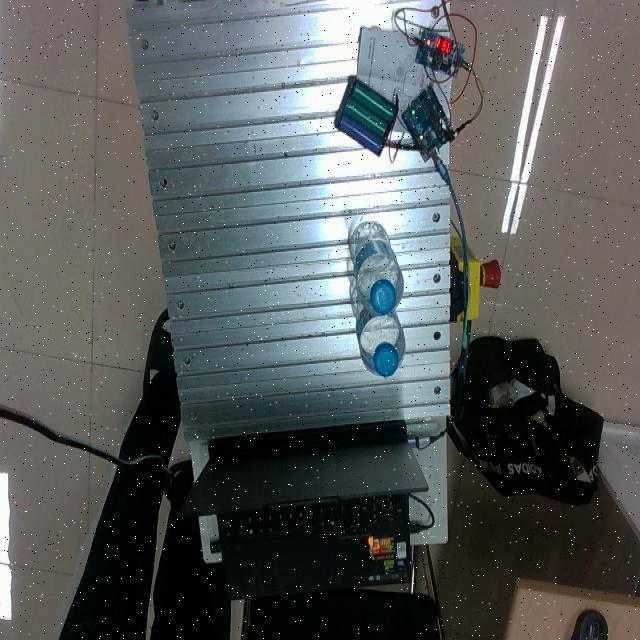lavie: (350, 277, 405, 379), (349, 221, 403, 319)
